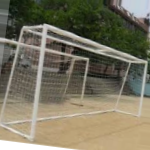goals: (2, 23, 150, 141)
